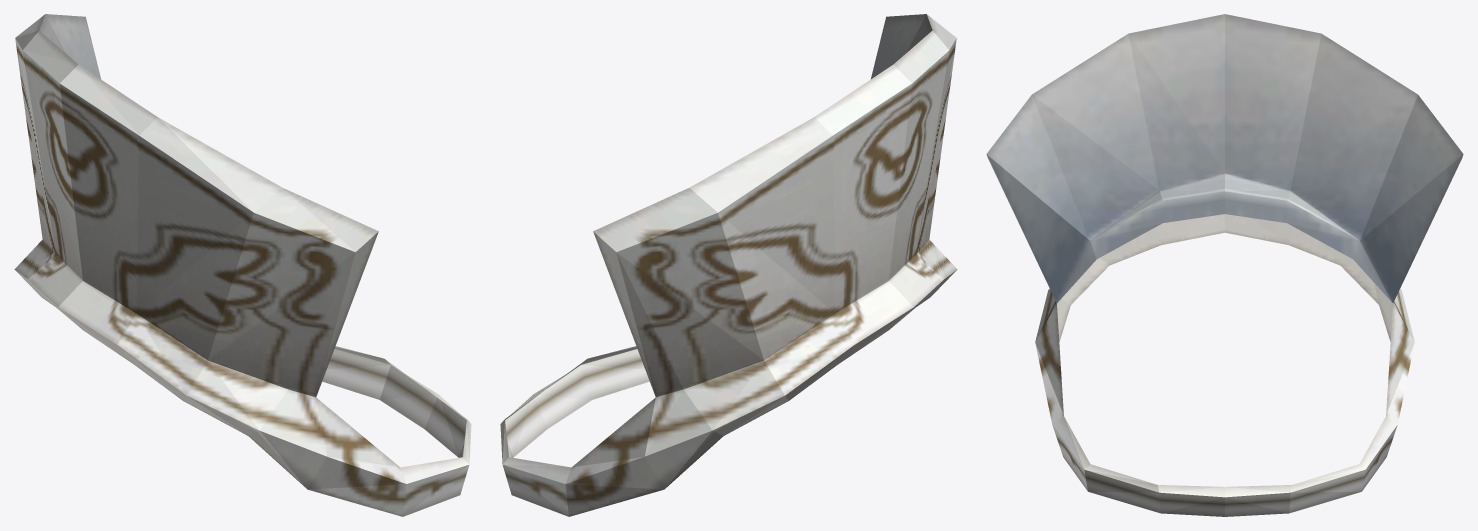
Rendered from Rabbit_alchemistHat.obj.
3 renders of one model, left to right at view 1: azimuth 30°, elevation 25°; view 2: azimuth 150°, elevation 25°; view 3: azimuth 270°, elevation 25°, orthographic. The views are drawn at different scales.
Visible parts, largest first — view 1: Rabbit_alchemistHat_tri; view 2: Rabbit_alchemistHat_tri; view 3: Rabbit_alchemistHat_tri.
Boxes of the visible parts, left/top/right/bottom form: Rabbit_alchemistHat_tri: left=14, top=14, right=471, bottom=516; Rabbit_alchemistHat_tri: left=500, top=14, right=957, bottom=516; Rabbit_alchemistHat_tri: left=986, top=14, right=1463, bottom=516.
Bounding box in the file's own units: 0.2452 × 0.2763 × 0.3268.
1 material, 1 textured.
